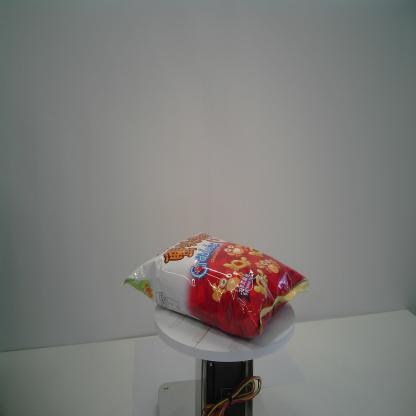Puffed Food: (120, 232, 310, 339)
